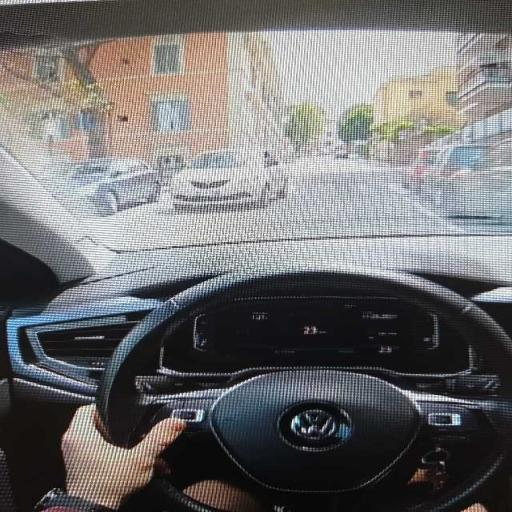car: (0, 0, 511, 511), (172, 149, 287, 208), (434, 143, 511, 220), (71, 159, 161, 215), (404, 143, 491, 197)
lane: (86, 159, 458, 250)
person: (36, 406, 186, 511)
